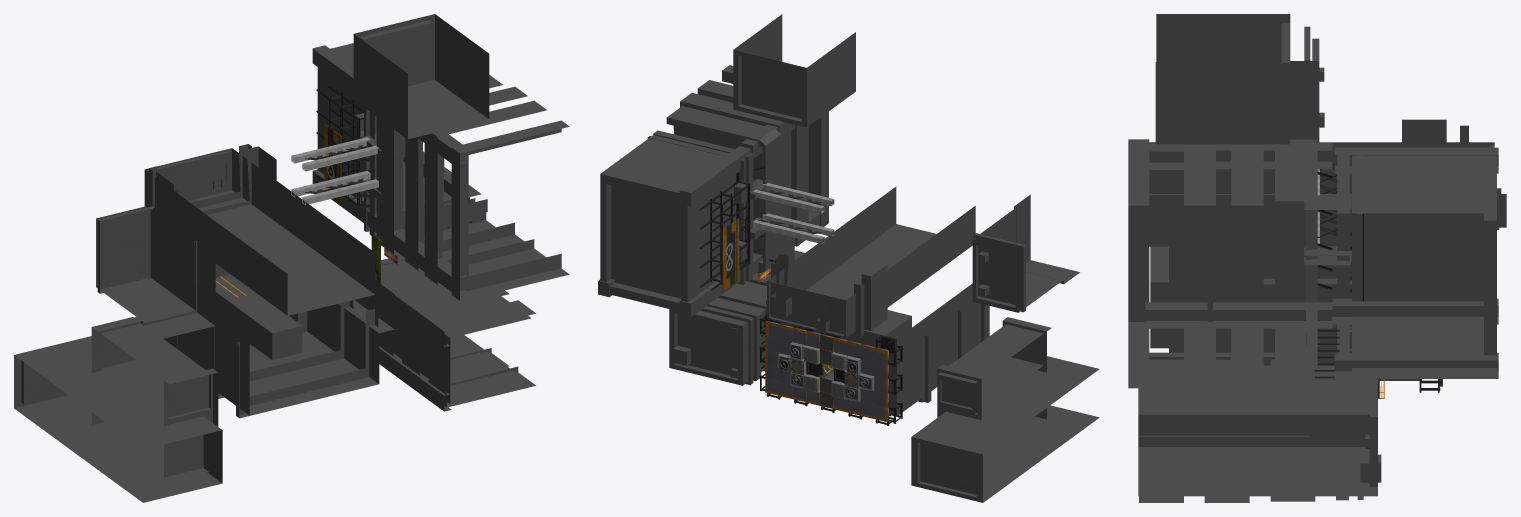
3 renders of one model, left to right at view 1: azimuth 30°, elevation 25°; view 2: azimuth 150°, elevation 25°; view 3: azimuth 270°, elevation 25°, orthographic. The views are drawn at different scales.
Parts seen in each view (by area): view 1: S_Outworld_Building_015, S_Outworld_building_015, S_Outworld_building_058, S_Outworld_Building_04, S_Outworld_Building_016, S_Outworld_Building_018, S_Outworld_Building_00, S_Outworld_Building_03, S_Outworld_Building_06, S_Outworld_BT_00, S_Outworld_building_074, S_Outworld_BT_02 (+10 smaller); view 2: S_Outworld_BT_00, S_Outworld_Building_015, S_Outworld_building_015, S_Outworld_Building_04, S_Outworld_Building_018, S_Outworld_building_058, S_Outworld_BT_01, S_Outworld_BT_02, S_Outworld_Building_03, S_Outworld_Building_00, S_Outworld_Building_016, S_Outworld_BT_03 (+12 smaller); view 3: S_Outworld_Building_015, S_Outworld_BT_00, S_Outworld_Building_016, S_Outworld_Building_018, S_Outworld_building_015, S_Outworld_building_058, S_Outworld_Building_020, S_Outworld_Building_00, S_Outworld_Building_025, S_Outworld_Building_04, S_Outworld_BT_01, S_Outworld_Building_09 (+2 smaller).
Part boxes in pixels (box(x1,y1,x2,y2)): S_Outworld_Building_015: box(361, 75, 569, 301); S_Outworld_building_015: box(144, 148, 375, 315); S_Outworld_building_058: box(163, 263, 394, 415); S_Outworld_Building_04: box(17, 339, 222, 502); S_Outworld_Building_016: box(379, 257, 535, 411); S_Outworld_Building_018: box(353, 14, 489, 139); S_Outworld_Building_00: box(97, 206, 215, 339); S_Outworld_Building_03: box(101, 323, 210, 419); S_Outworld_Building_06: box(164, 368, 218, 481); S_Outworld_BT_00: box(317, 43, 451, 215); S_Outworld_building_074: box(236, 309, 378, 418); S_Outworld_BT_02: box(14, 336, 91, 410); S_Outworld_BT_00: box(600, 135, 736, 311); S_Outworld_Building_015: box(647, 65, 828, 284); S_Outworld_building_015: box(767, 186, 975, 337); S_Outworld_Building_04: box(914, 356, 1099, 500); S_Outworld_Building_018: box(733, 14, 855, 127); S_Outworld_building_058: box(765, 283, 989, 416); S_Outworld_BT_01: box(669, 309, 747, 385); S_Outworld_BT_02: box(911, 435, 985, 502); S_Outworld_Building_03: box(949, 324, 1043, 409); S_Outworld_Building_00: box(973, 194, 1079, 312); S_Outworld_Building_016: box(700, 250, 804, 385); S_Outworld_BT_03: box(972, 237, 1021, 312); S_Outworld_Building_015: box(1128, 139, 1363, 388); S_Outworld_BT_00: box(1352, 155, 1496, 374); S_Outworld_Building_016: box(1138, 352, 1364, 502); S_Outworld_Building_018: box(1156, 14, 1290, 144); S_Outworld_building_015: box(1149, 142, 1494, 246); S_Outworld_building_058: box(1169, 246, 1421, 380); S_Outworld_Building_020: box(1334, 352, 1498, 378); S_Outworld_Building_00: box(1155, 26, 1310, 141); S_Outworld_Building_025: box(1334, 147, 1498, 173); S_Outworld_Building_04: box(1150, 246, 1168, 348); S_Outworld_BT_01: box(1364, 379, 1377, 496); S_Outworld_Building_09: box(1332, 298, 1498, 324).
Bounding box in the file's own units: 0.2779 × 0.2303 × 0.1765.
3 materials, 3 textured.
